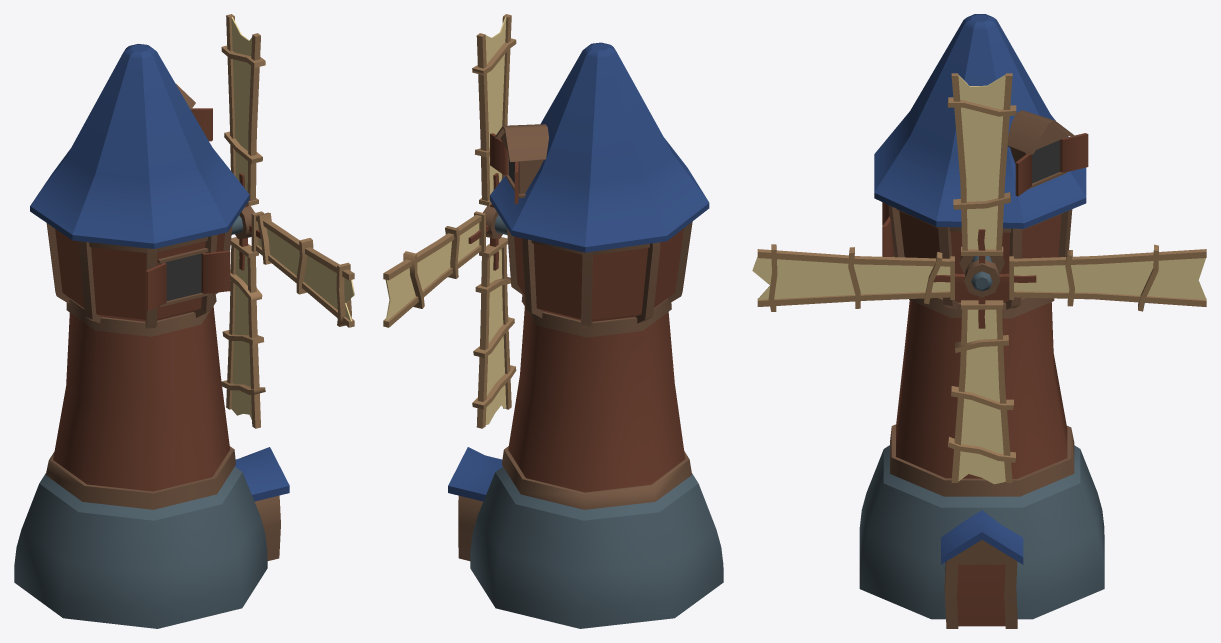
File: Windmill.fbx
The picture shows the model from 3 angles, left to right: view 1: azimuth 30°, elevation 25°; view 2: azimuth 150°, elevation 25°; view 3: azimuth 270°, elevation 25°; orthographic projection. The views are drawn at different scales.
Visible parts, largest first — view 1: Windmill, WindmillBlade; view 2: Windmill, WindmillBlade; view 3: Windmill, WindmillBlade.
Boxes of the visible parts, x1,y1,x2,y2 form: Windmill: (14,44,289,628); WindmillBlade: (221,14,354,428); Windmill: (448,42,723,628); WindmillBlade: (383,14,516,428); Windmill: (859,14,1104,628); WindmillBlade: (752,73,1206,484).
Bounding box in the file's own units: 235 × 513 × 385.
